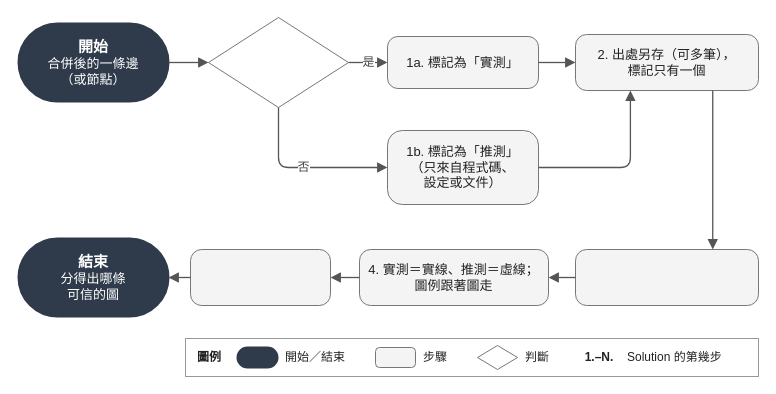
This 776x394 diagram has some shape labels left out. The shapes that lost their labels are listed below. From the top down, each one's centre as x and y in pixels, then its label:
At [278,62]: "執行期觀測 記錄到了？".
At [260,277]: "5. 下游的摘要與報告 只能照抄或降級".
At [666,277]: "3. 同一條邊有多個標記時 留較強的：實測取代推測".
